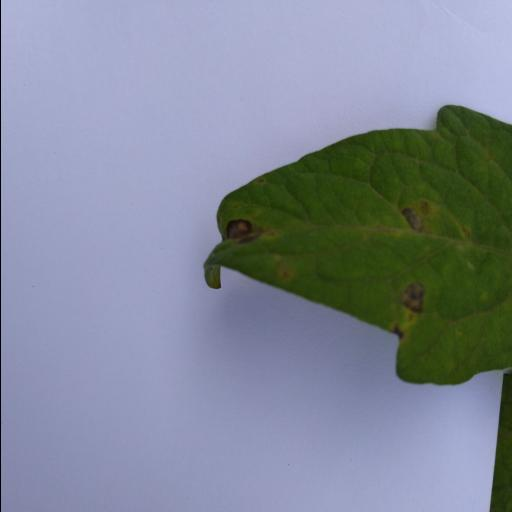Early Blight: (204, 104, 512, 388)
